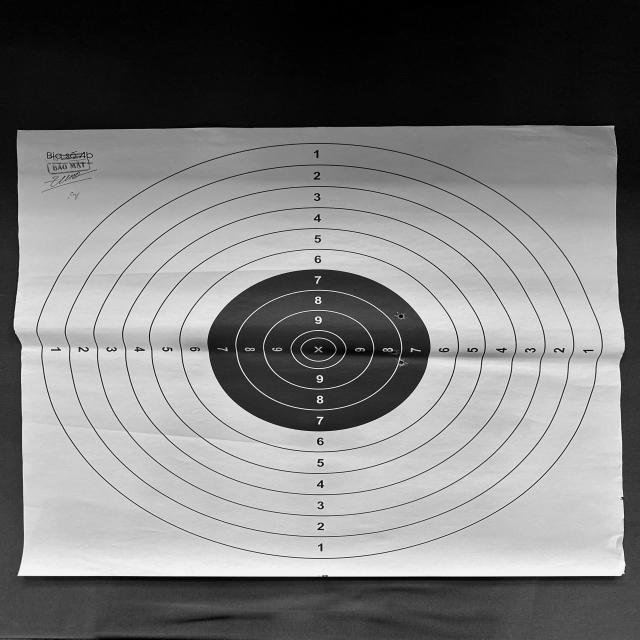bullet: (398, 359, 407, 367), (396, 314, 406, 319), (391, 350, 399, 354)
target: (14, 127, 625, 577)
